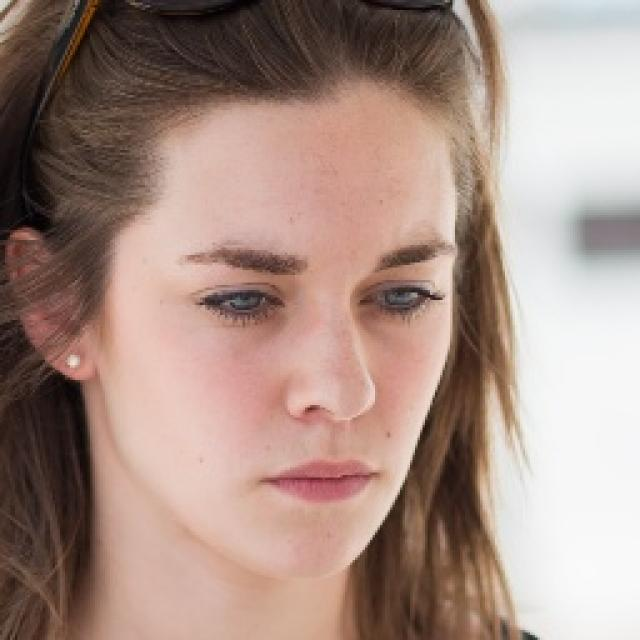earlobe: (54, 332, 99, 384)
eye: (210, 281, 275, 322), (374, 282, 438, 314)
nose: (282, 407, 378, 448)
wholeear: (4, 228, 99, 383)
